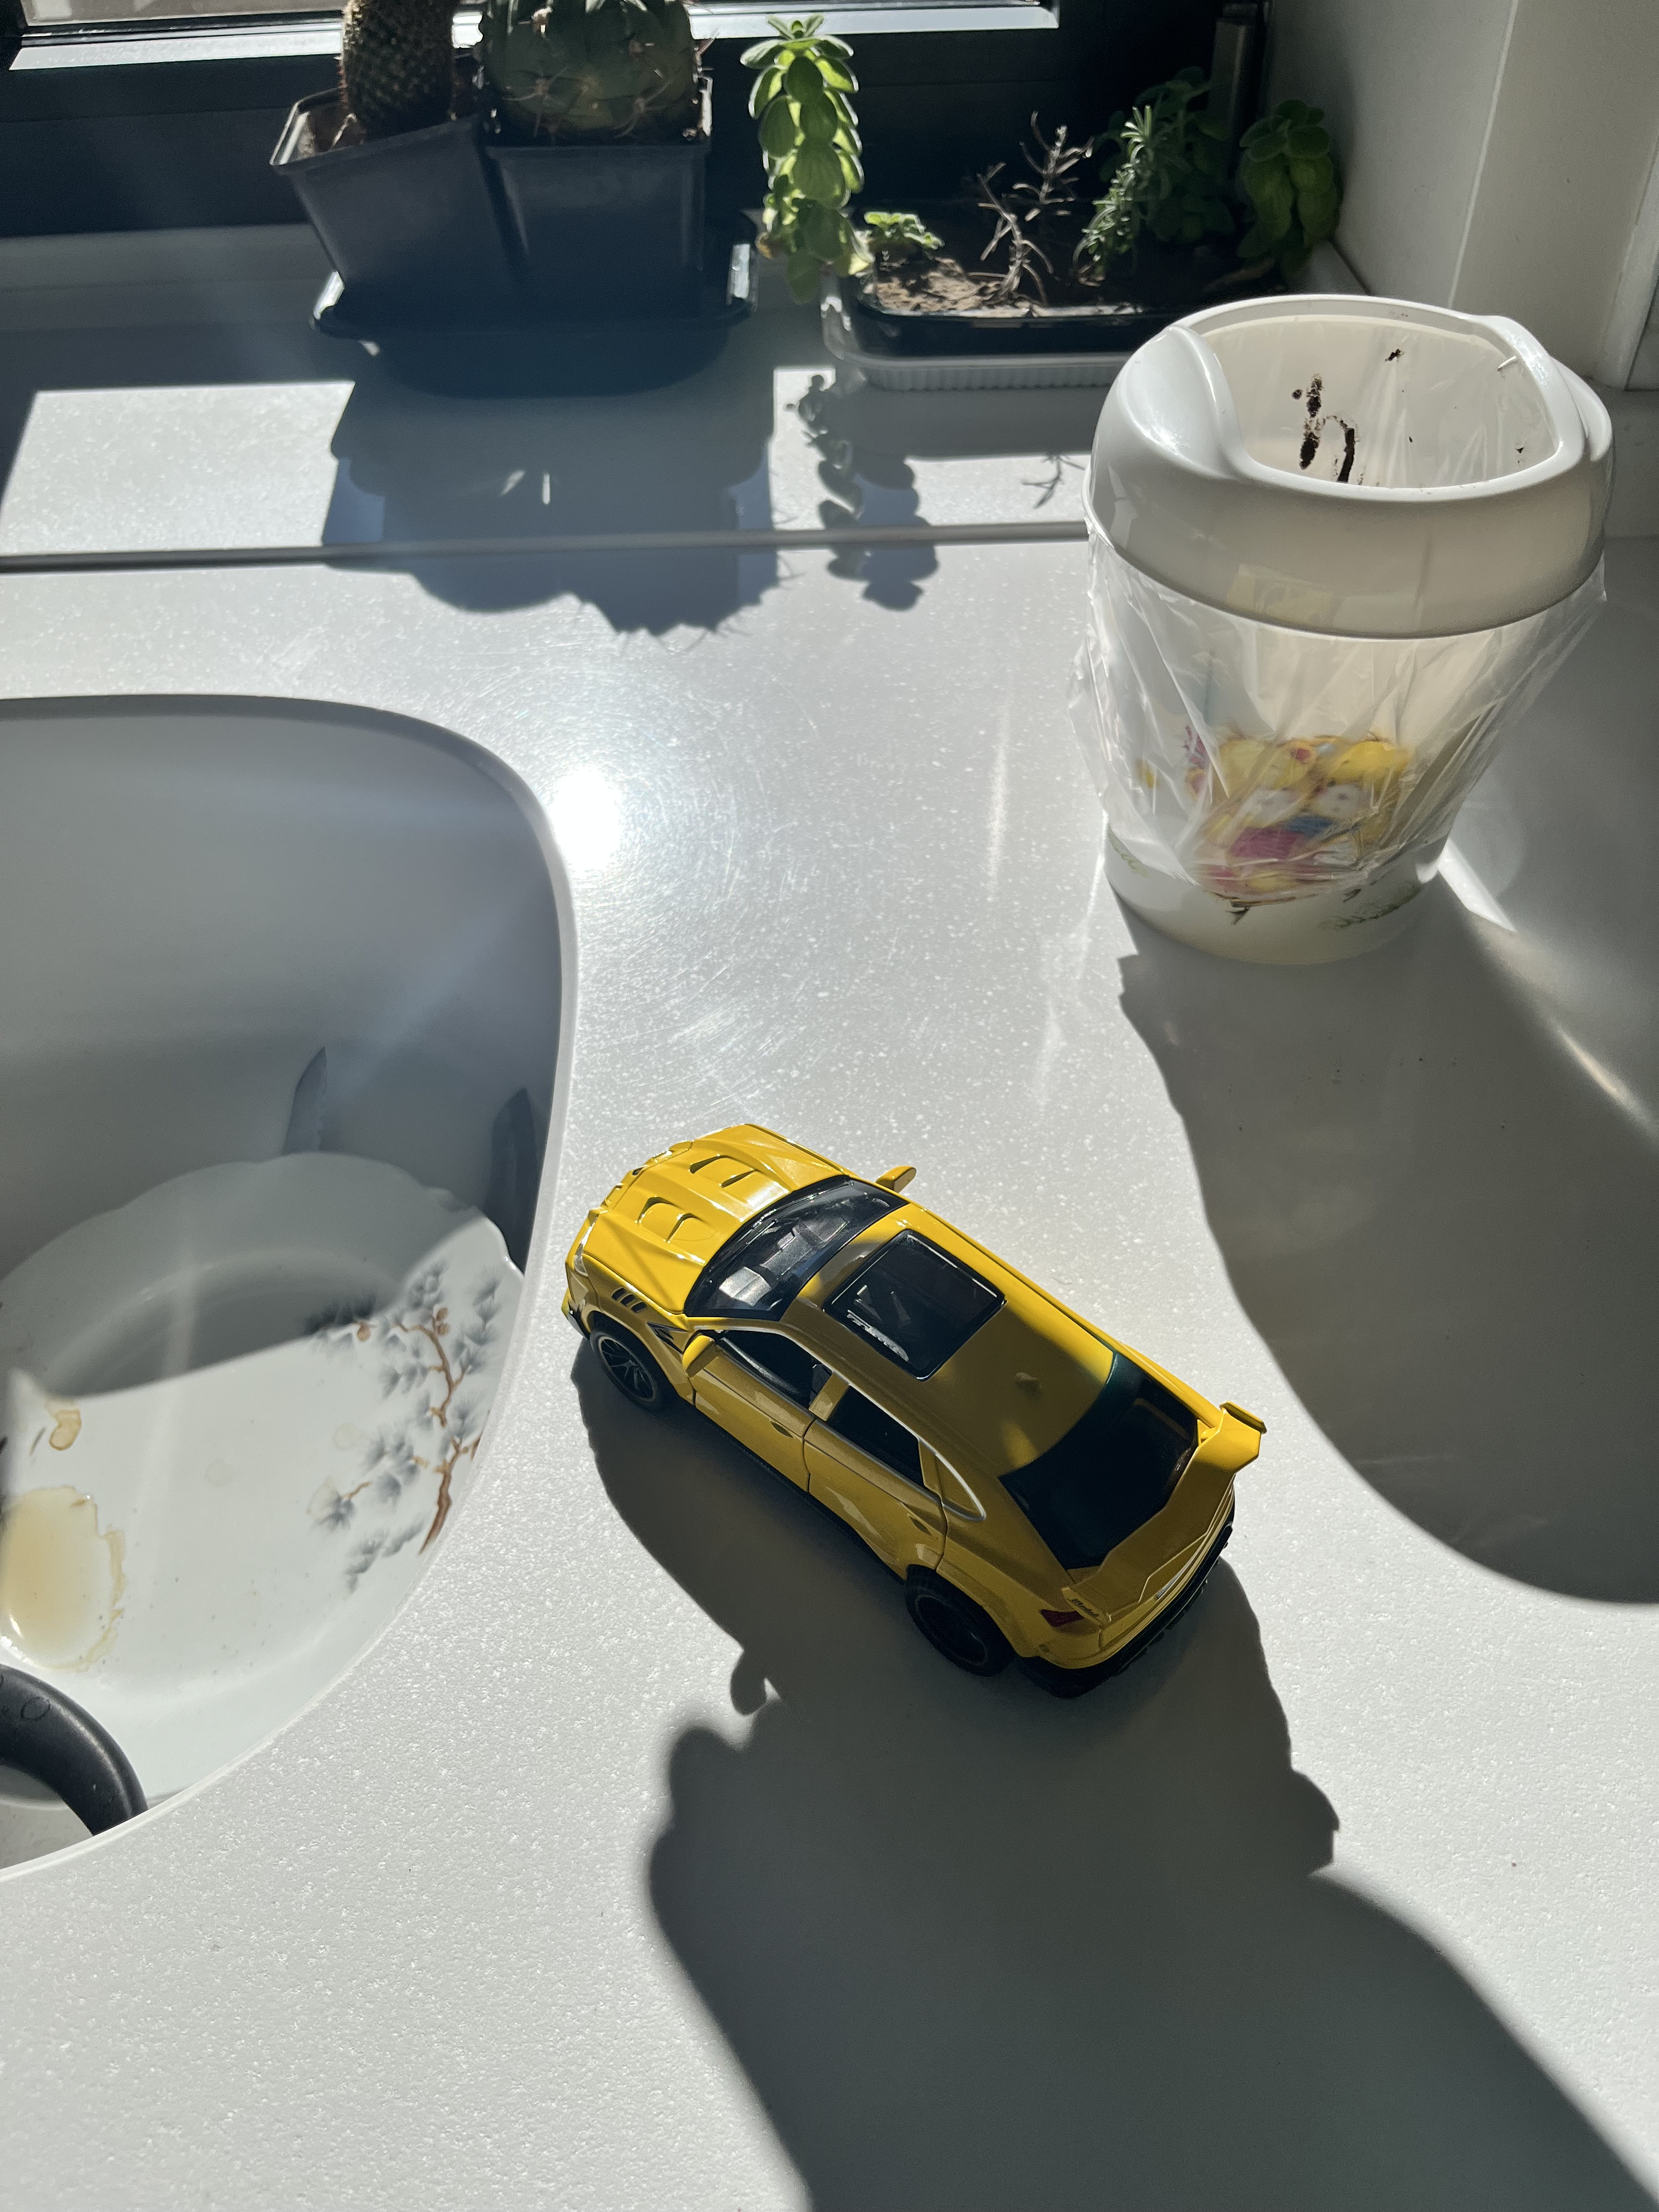lambo: (561, 1122, 1265, 1698)
